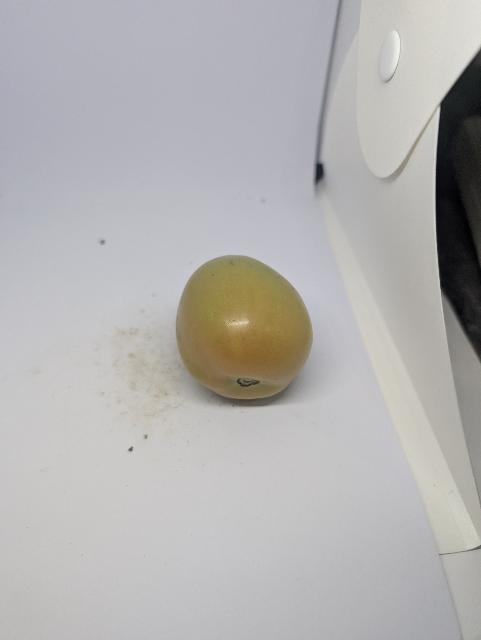breaker: (176, 255, 313, 399)
